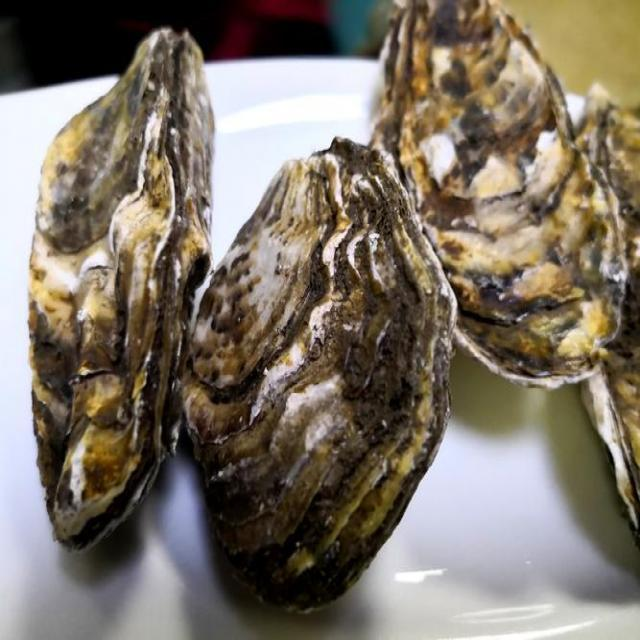Oyster- Indeterminate: (373, 0, 632, 396), (561, 79, 640, 547)
Oyster-Closed: (174, 132, 460, 625), (24, 24, 215, 557)
